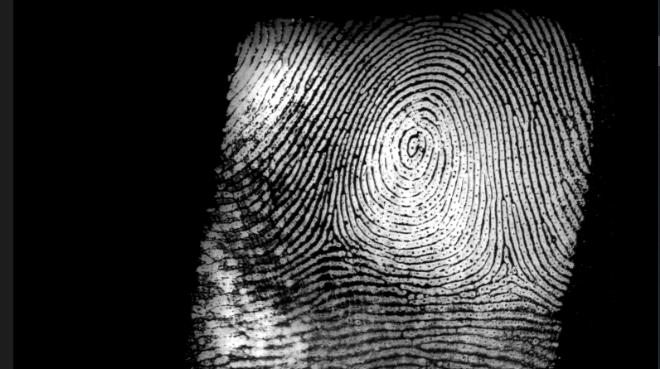nucelo: (396, 120, 429, 170)
verticilo: (498, 254, 527, 291), (318, 221, 348, 254)
